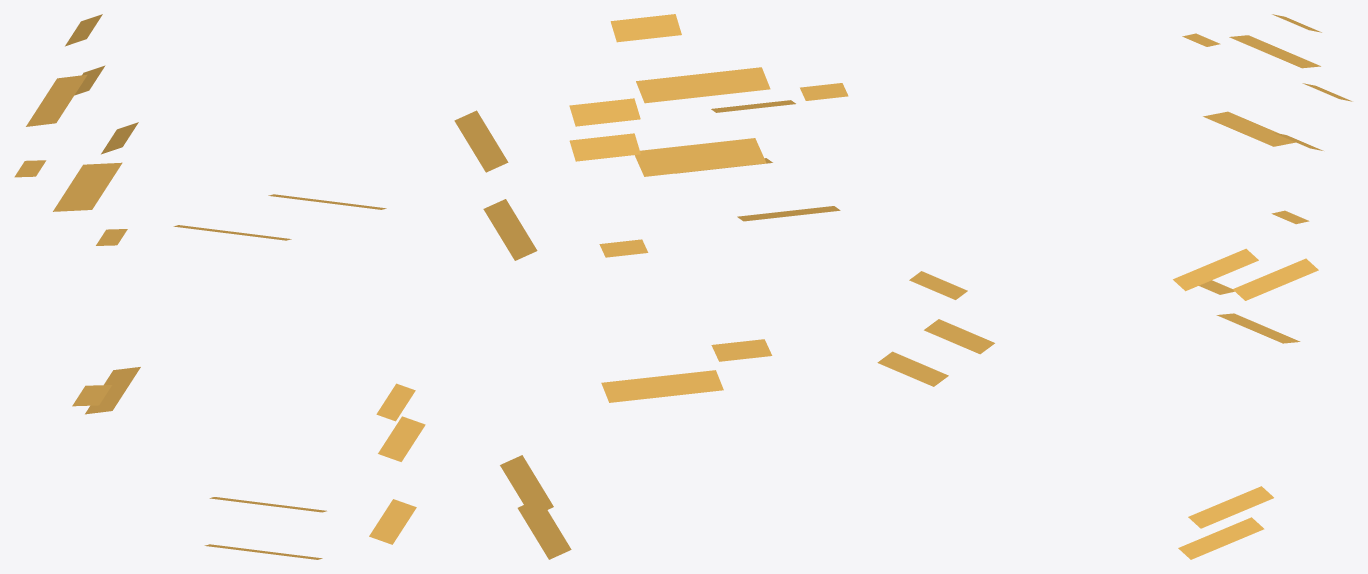
File: toit bidonville 01.fbx
3 renders of one model, left to right at view 1: azimuth 30°, elevation 25°; view 2: azimuth 150°, elevation 25°; view 3: azimuth 270°, elevation 25°, orthographic. The views are drawn at different scales.
Visible parts, largest first — view 1: Cube.087, Cube.097, Cube.101, Cube.099, Cube.394, Cube.103, Cube.395; view 2: Cube.087, Cube.097, Cube.394, Plane.183, Plane.182, Plane.519, Cube.091, Cube.104, Cube.597, Plane.511, Cube.395, Cube.107 (+2 smaller); view 3: Plane.182, Plane.183, Plane.511, Plane.519, Cube.087, Cube.101, Cube.099, Cube.097, Cube.103, Cube.394.
Boxes of the visible parts, bbox=[...] form: Cube.087: bbox=[53, 162, 122, 211]; Cube.097: bbox=[26, 74, 87, 126]; Cube.101: bbox=[369, 499, 416, 544]; Cube.099: bbox=[378, 416, 425, 461]; Cube.394: bbox=[85, 367, 140, 414]; Cube.103: bbox=[376, 383, 415, 421]; Cube.395: bbox=[72, 385, 111, 406]; Cube.087: bbox=[634, 138, 766, 176]; Cube.097: bbox=[636, 67, 770, 103]; Cube.394: bbox=[601, 370, 723, 402]; Plane.183: bbox=[483, 199, 537, 260]; Plane.182: bbox=[454, 110, 508, 172]; Plane.519: bbox=[500, 455, 553, 516]; Cube.091: bbox=[569, 98, 640, 126]; Cube.104: bbox=[569, 133, 640, 161]; Cube.597: bbox=[610, 14, 681, 42]; Plane.511: bbox=[517, 505, 571, 559]; Cube.395: bbox=[711, 339, 772, 361]; Cube.107: bbox=[599, 239, 648, 257]; Plane.182: bbox=[1173, 248, 1258, 291]; Plane.183: bbox=[1232, 258, 1318, 300]; Plane.511: bbox=[1178, 517, 1264, 559]; Plane.519: bbox=[1188, 486, 1273, 528]; Cube.087: bbox=[1203, 111, 1295, 146]; Cube.101: bbox=[877, 351, 948, 386]; Cube.099: bbox=[924, 319, 994, 354]; Cube.097: bbox=[1229, 35, 1320, 68]; Cube.103: bbox=[909, 271, 967, 299]; Cube.394: bbox=[1216, 313, 1300, 343].
Bounding box in the file's own units: 4662 × 6458 × 6003.
